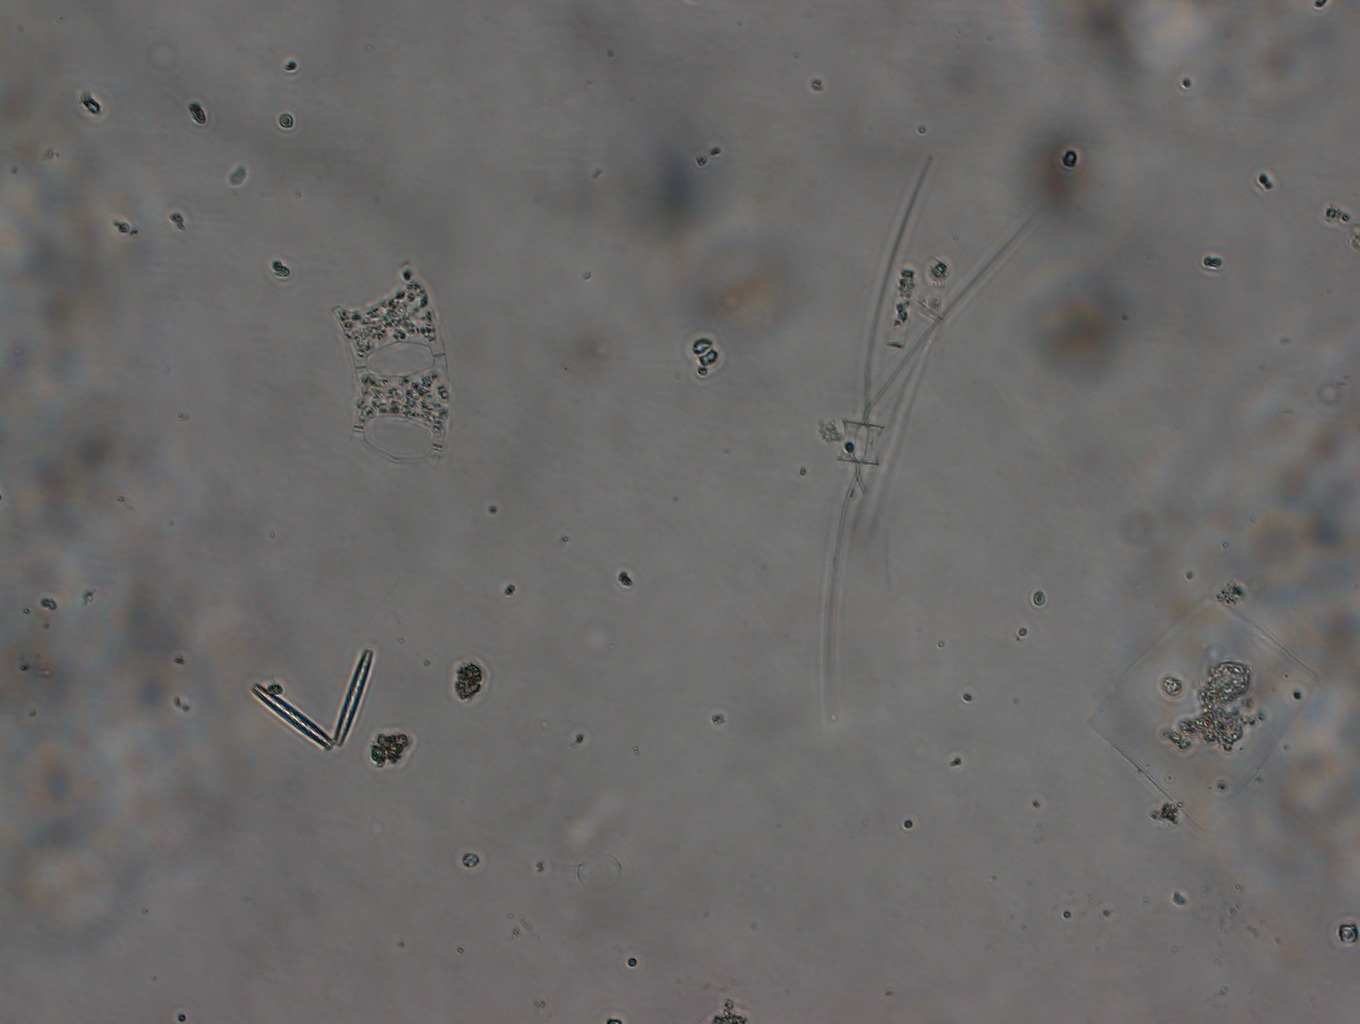chaetoceros: (807, 140, 1035, 723)
eucampia: (320, 260, 452, 473)
helicotheca: (1082, 586, 1328, 826)
thalassionema nitzschioides: (242, 641, 376, 753)
